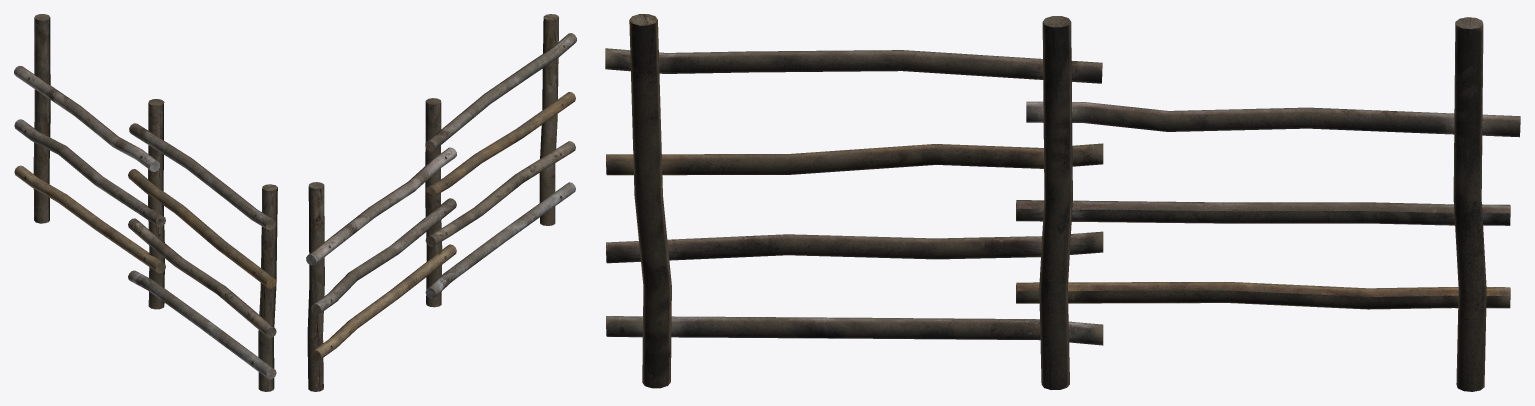
Rendered from fence.obj.
3 views of the same model, side by side, from view 1: azimuth 30°, elevation 25°; view 2: azimuth 150°, elevation 25°; view 3: azimuth 270°, elevation 25° (orthographic). The views are drawn at different scales.
Visible parts, largest first — view 1: fence; view 2: fence; view 3: fence.
Boxes of the visible parts, x1,y1,x2,y2 form: fence: (14, 14, 277, 391); fence: (306, 14, 576, 391); fence: (605, 14, 1520, 391).
Size of the model in its own units: 1.75 by 13.18 by 30.12.
